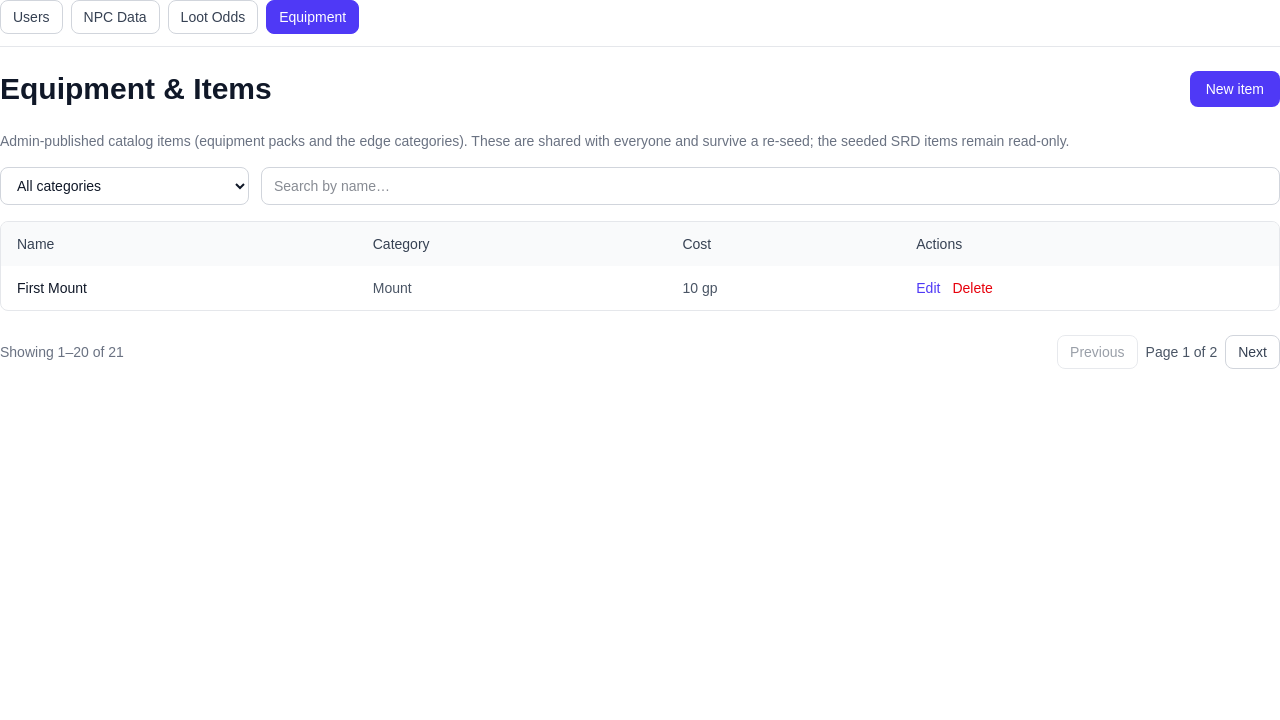
Test: AdminEquipmentPage › steps back a page when deleting the last row on a non-first page
The image size is (1280, 720).
Check: the text "First Mount" is shown, box 1,266 -> 357,310
// Go to page 2 (its single row), then delete it.
Click the button "Next" at [1253, 352], box 1225,335 -> 1279,369
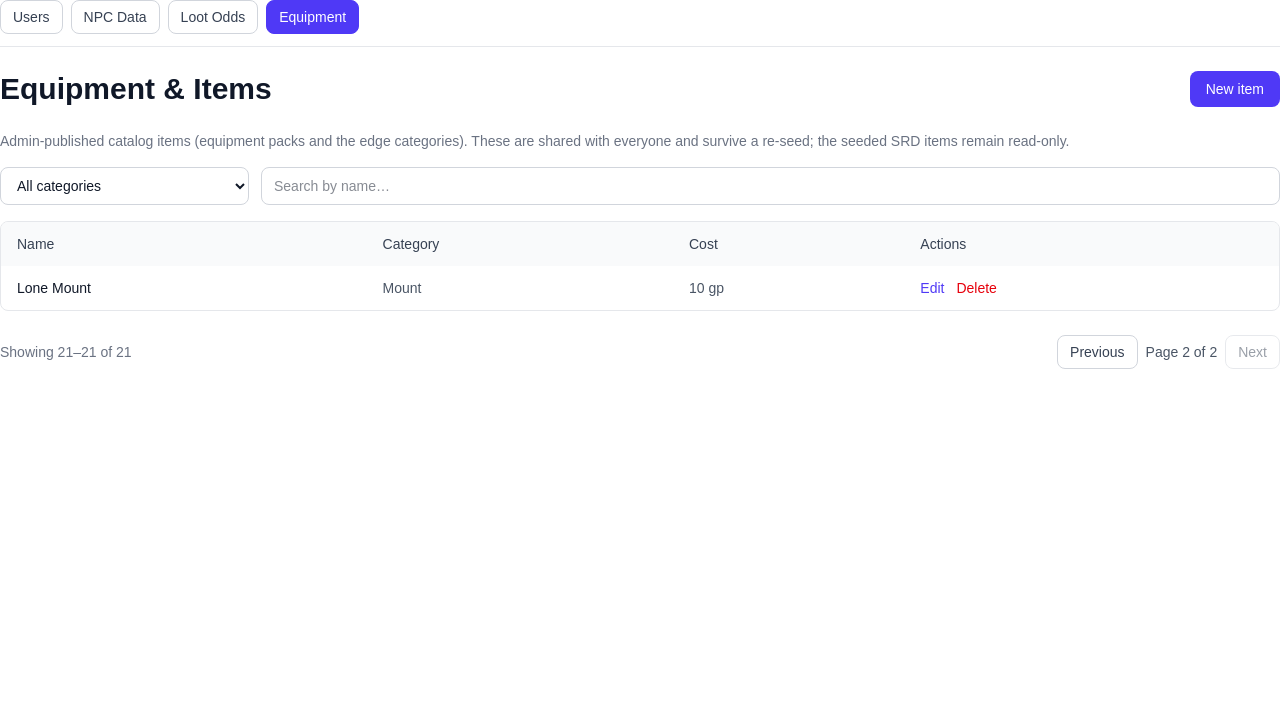
Check: the text "Lone Mount" is shown, box 1,266 -> 367,310
Click the button "Delete" at [977, 288], box 956,278 -> 997,298
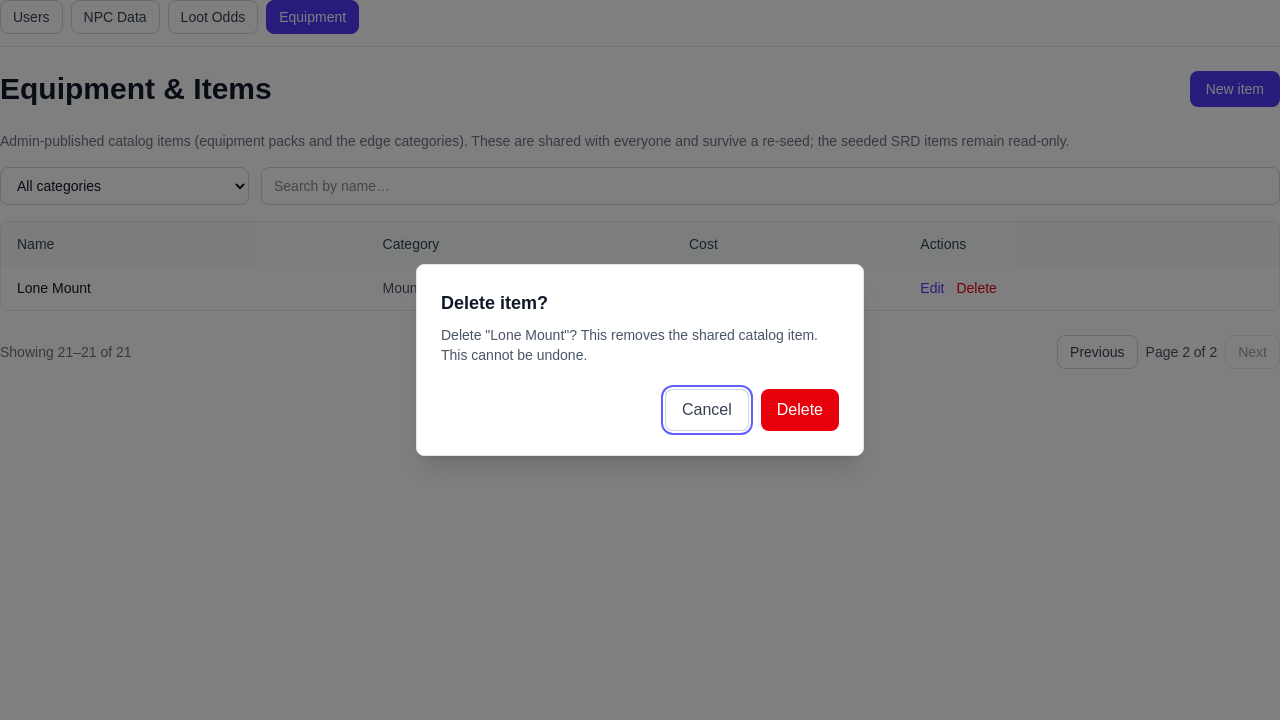
Click the button "Delete" at [800, 410], box 761,389 -> 839,431
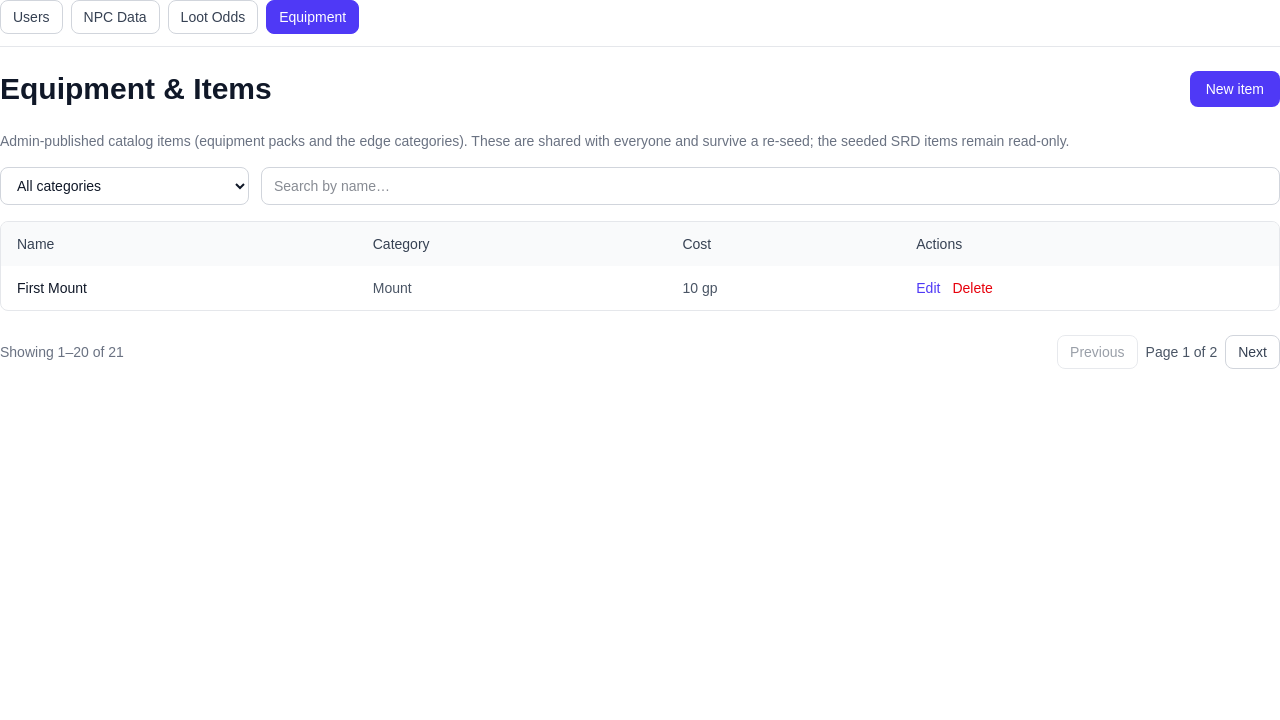
Check: the text "First Mount" is shown, box 1,266 -> 357,310
Check: the text "Lone Mount" is gone
